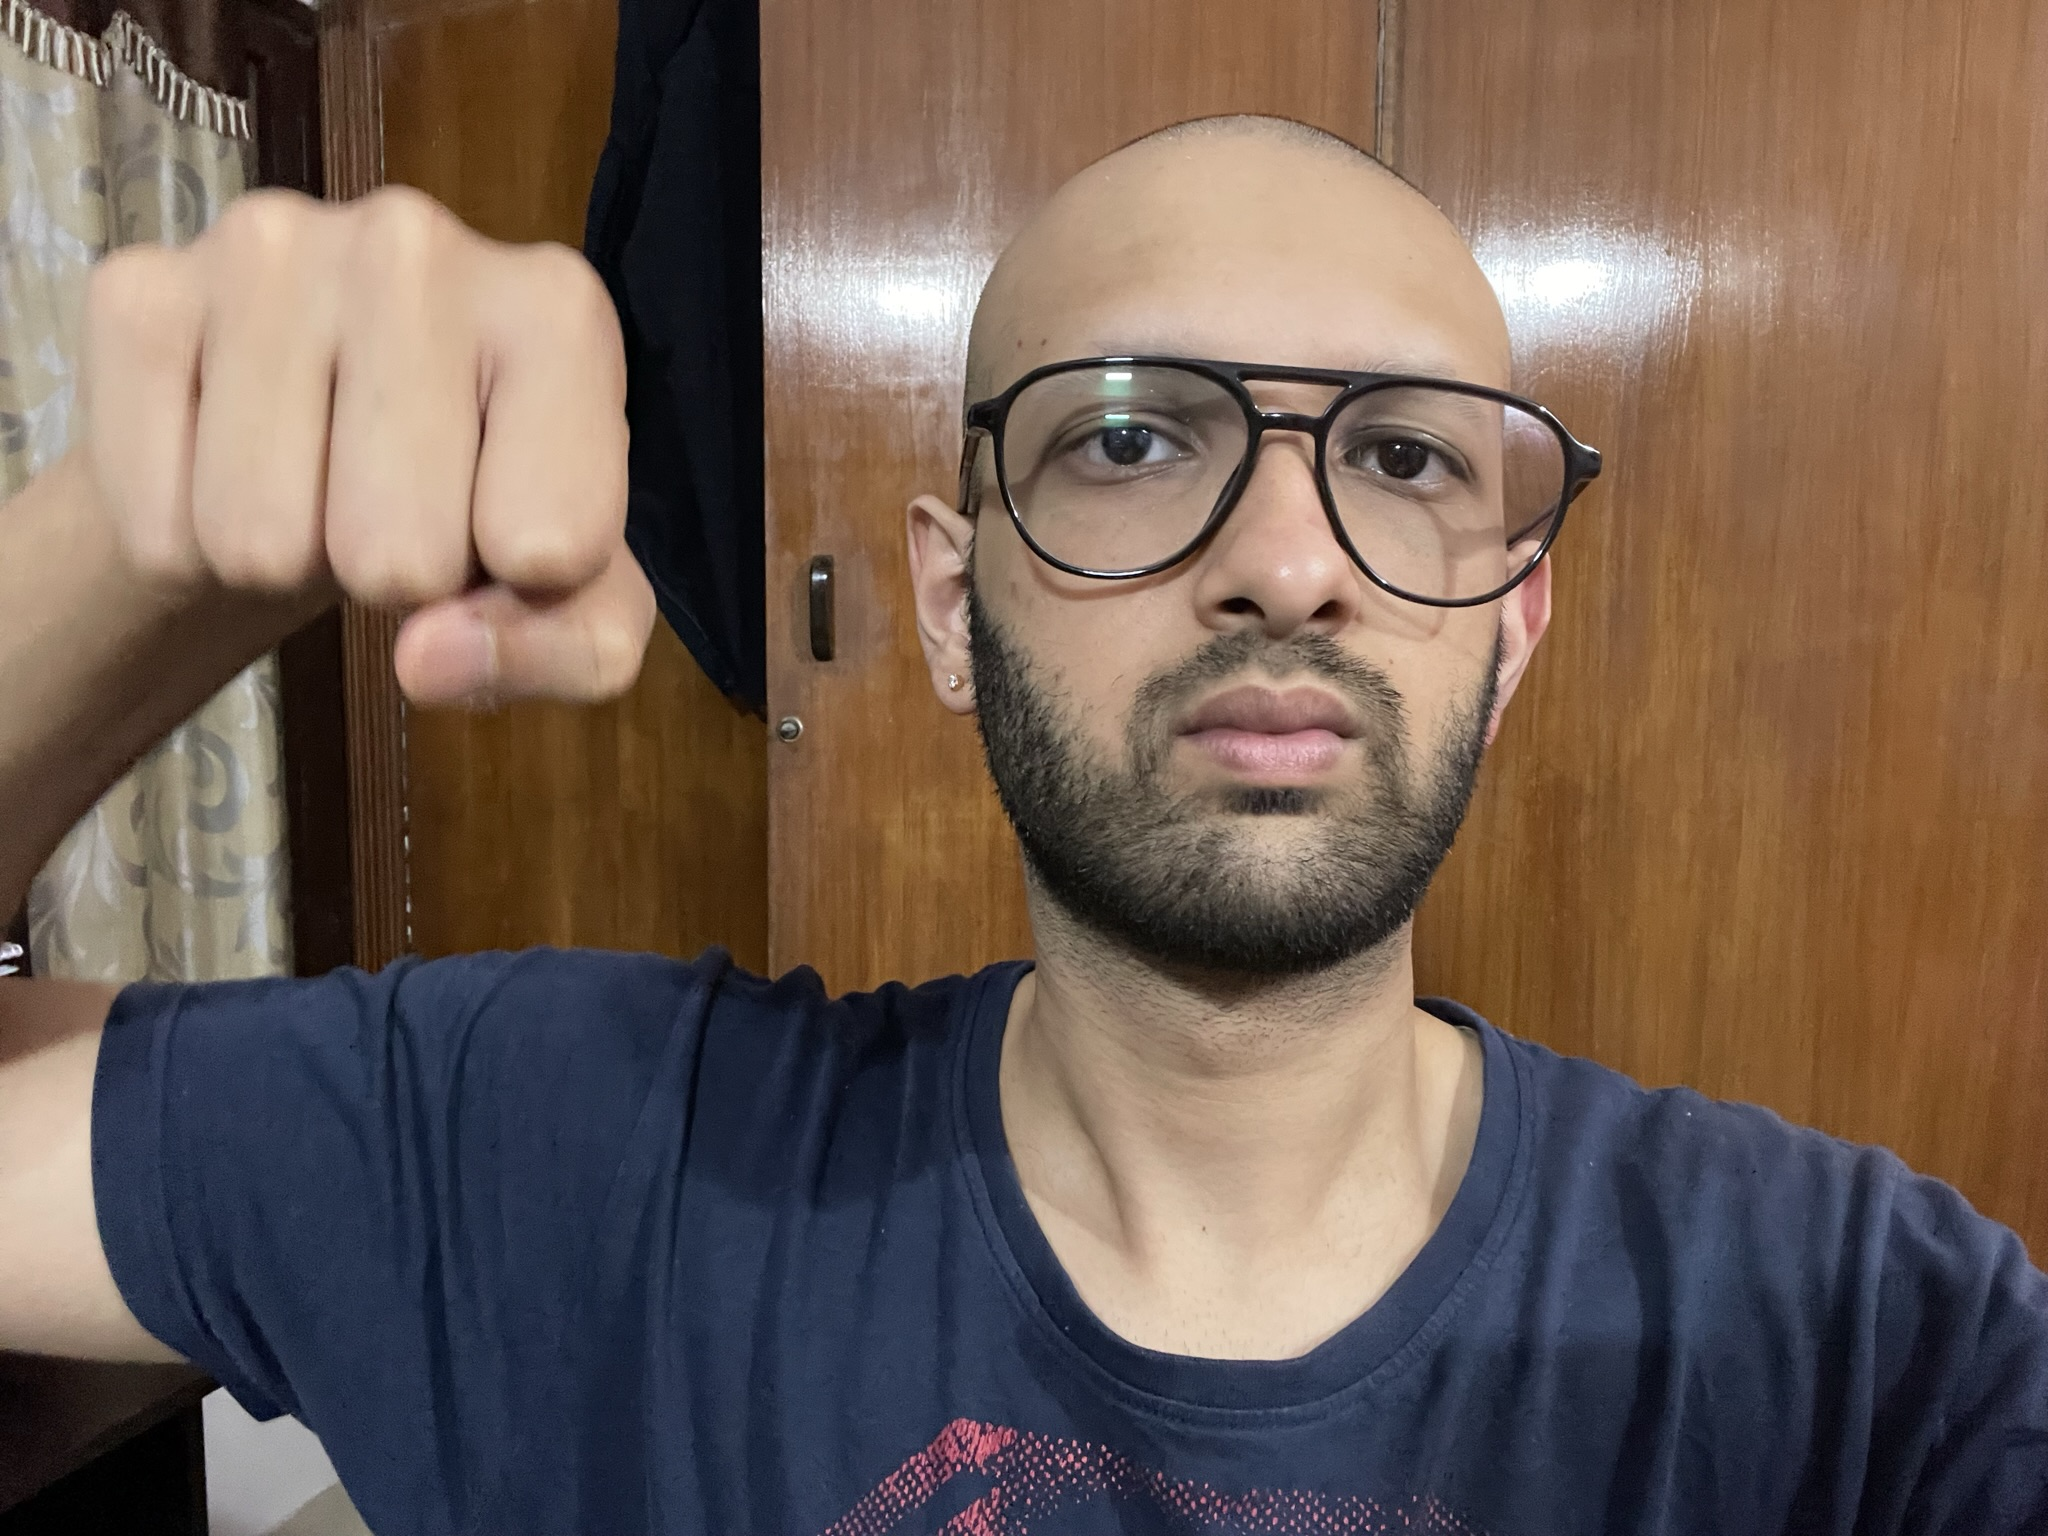Yes: (74, 181, 661, 721)
